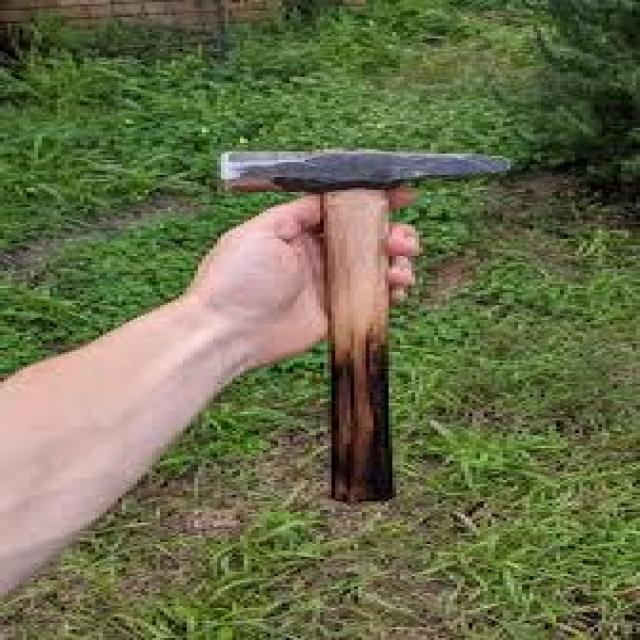hammer: (206, 140, 541, 516)
